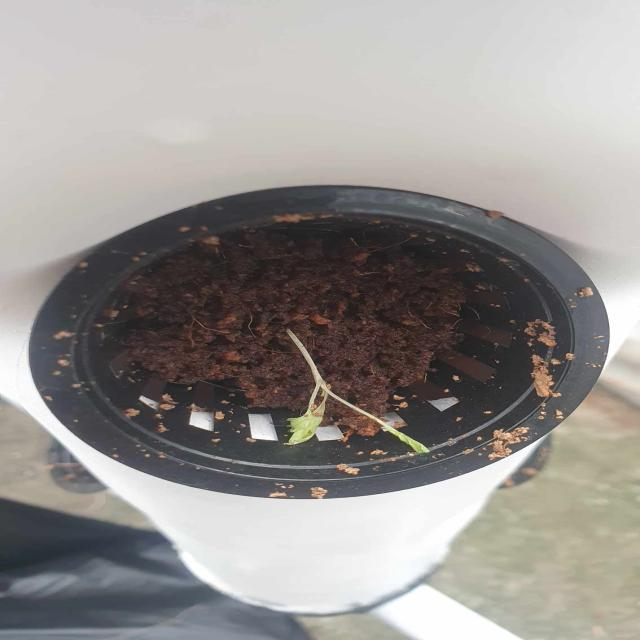Lettuce-Not-Ready-to-Harvest: (271, 325, 440, 465)
